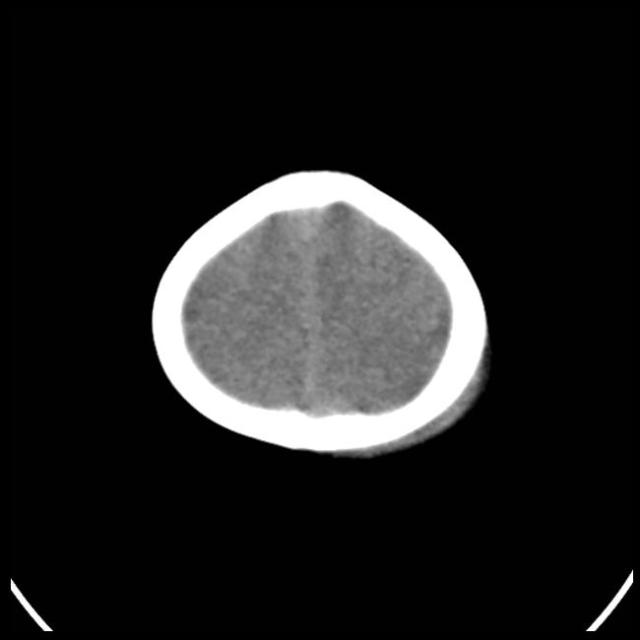lesion: (145, 161, 497, 463)
